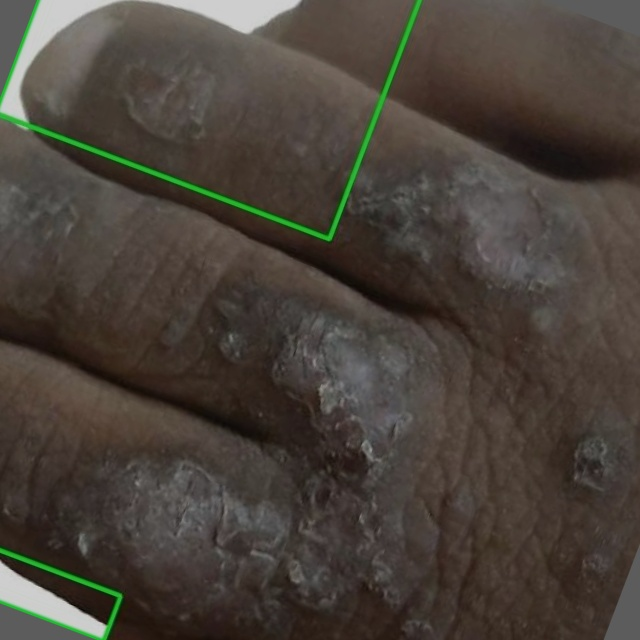Contact Dermatitis: (0, 0, 419, 239)
